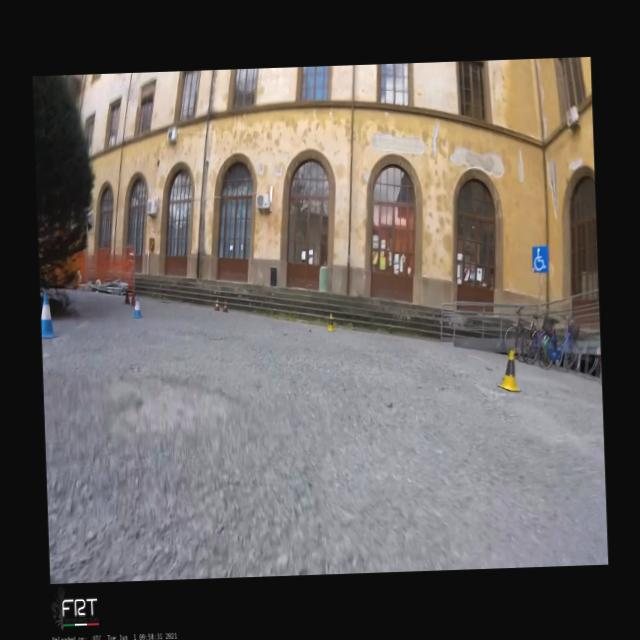blue_cone: (39, 294, 59, 338), (130, 294, 142, 318)
large_orange_cone: (222, 299, 228, 312), (214, 297, 219, 311)
unknown_cone: (123, 289, 130, 304), (130, 292, 134, 305)
yellow_cone: (496, 348, 521, 392), (325, 312, 335, 332)
